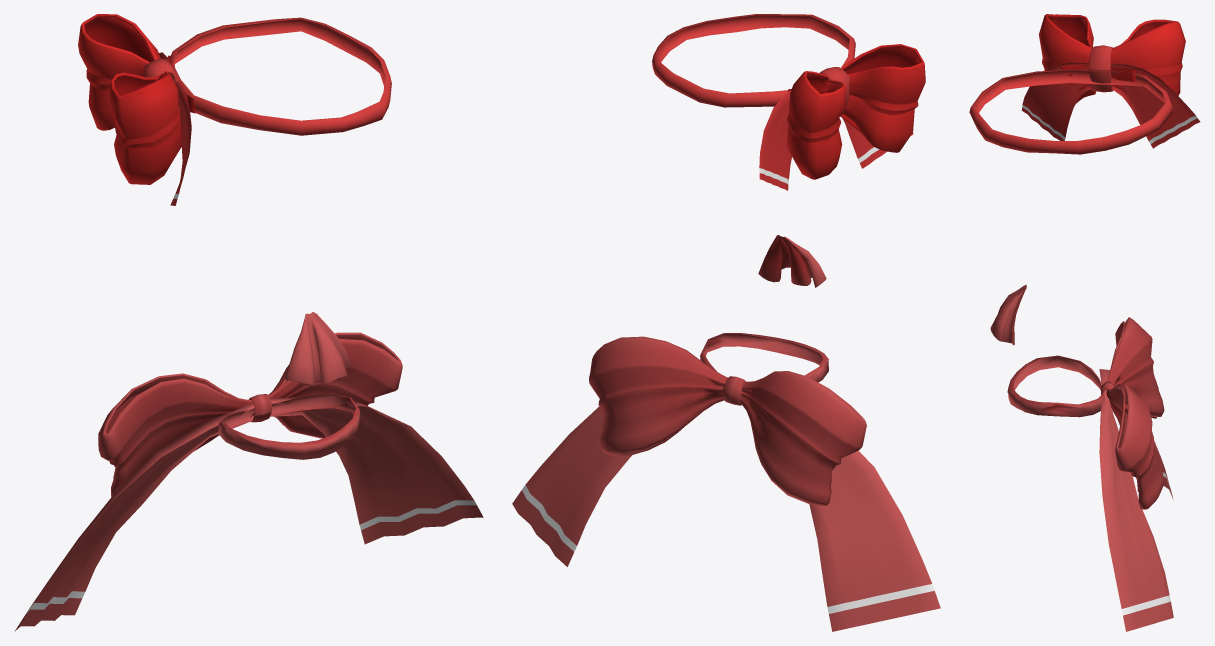
Rendered from details.obj.
3 views of the same model, side by side, from view 1: azimuth 30°, elevation 25°; view 2: azimuth 150°, elevation 25°; view 3: azimuth 270°, elevation 25° (orthographic). The views are drawn at different scales.
Parts seen in each view (by area): view 1: 腰リボン紐赤_Remilia_Scarlet_mesh_Remilia_Scarlet.036, 帽子リボン_Remilia_Scarlet_mesh_Remilia_Scarlet.031, 腰リボン_Remilia_Scarlet_mesh_Remilia_Scarlet.030, 胸リボン_Remilia_Scarlet_mesh_Remilia_Scarlet.023, 腰リボン紐白_Remilia_Scarlet_mesh_Remilia_Scarlet.014, 帽子リボン紐赤_Remilia_Scarlet_mesh_Remilia_Scarlet.010; view 2: 腰リボン_Remilia_Scarlet_mesh_Remilia_Scarlet.030, 腰リボン紐赤_Remilia_Scarlet_mesh_Remilia_Scarlet.036, 帽子リボン_Remilia_Scarlet_mesh_Remilia_Scarlet.031, 帽子リボン紐赤_Remilia_Scarlet_mesh_Remilia_Scarlet.010, 胸リボン_Remilia_Scarlet_mesh_Remilia_Scarlet.023, 腰リボン紐白_Remilia_Scarlet_mesh_Remilia_Scarlet.014; view 3: 帽子リボン_Remilia_Scarlet_mesh_Remilia_Scarlet.031, 腰リボン_Remilia_Scarlet_mesh_Remilia_Scarlet.030, 腰リボン紐赤_Remilia_Scarlet_mesh_Remilia_Scarlet.036, 帽子リボン紐赤_Remilia_Scarlet_mesh_Remilia_Scarlet.010, 胸リボン_Remilia_Scarlet_mesh_Remilia_Scarlet.023, 帽子リボン紐白_Remilia_Scarlet_mesh_Remilia_Scarlet.004, 腰リボン紐白_Remilia_Scarlet_mesh_Remilia_Scarlet.014.
Part boxes in pixels (left/top/right/bottom): 腰リボン紐赤_Remilia_Scarlet_mesh_Remilia_Scarlet.036: left=14, top=396, right=483, bottom=631; 帽子リボン_Remilia_Scarlet_mesh_Remilia_Scarlet.031: left=78, top=14, right=391, bottom=184; 腰リボン_Remilia_Scarlet_mesh_Remilia_Scarlet.030: left=98, top=332, right=402, bottom=496; 胸リボン_Remilia_Scarlet_mesh_Remilia_Scarlet.023: left=285, top=312, right=351, bottom=385; 腰リボン紐白_Remilia_Scarlet_mesh_Remilia_Scarlet.014: left=25, top=500, right=476, bottom=614; 帽子リボン紐赤_Remilia_Scarlet_mesh_Remilia_Scarlet.010: left=159, top=52, right=191, bottom=205; 腰リボン_Remilia_Scarlet_mesh_Remilia_Scarlet.030: left=589, top=333, right=866, bottom=505; 腰リボン紐赤_Remilia_Scarlet_mesh_Remilia_Scarlet.036: left=512, top=406, right=940, bottom=631; 帽子リボン_Remilia_Scarlet_mesh_Remilia_Scarlet.031: left=652, top=14, right=925, bottom=179; 帽子リボン紐赤_Remilia_Scarlet_mesh_Remilia_Scarlet.010: left=759, top=90, right=913, bottom=190; 胸リボン_Remilia_Scarlet_mesh_Remilia_Scarlet.023: left=758, top=235, right=826, bottom=287; 腰リボン紐白_Remilia_Scarlet_mesh_Remilia_Scarlet.014: left=522, top=485, right=934, bottom=613; 帽子リボン_Remilia_Scarlet_mesh_Remilia_Scarlet.031: left=969, top=14, right=1185, bottom=154; 腰リボン_Remilia_Scarlet_mesh_Remilia_Scarlet.030: left=1007, top=317, right=1164, bottom=509; 腰リボン紐赤_Remilia_Scarlet_mesh_Remilia_Scarlet.036: left=1099, top=369, right=1173, bottom=631; 帽子リボン紐赤_Remilia_Scarlet_mesh_Remilia_Scarlet.010: left=1021, top=62, right=1200, bottom=148; 胸リボン_Remilia_Scarlet_mesh_Remilia_Scarlet.023: left=990, top=284, right=1026, bottom=345; 帽子リボン紐白_Remilia_Scarlet_mesh_Remilia_Scarlet.004: left=1022, top=105, right=1197, bottom=144; 腰リボン紐白_Remilia_Scarlet_mesh_Remilia_Scarlet.014: left=1121, top=472, right=1170, bottom=615.
Size of the model in its own units: 0.6525 by 0.7928 by 0.3384.
